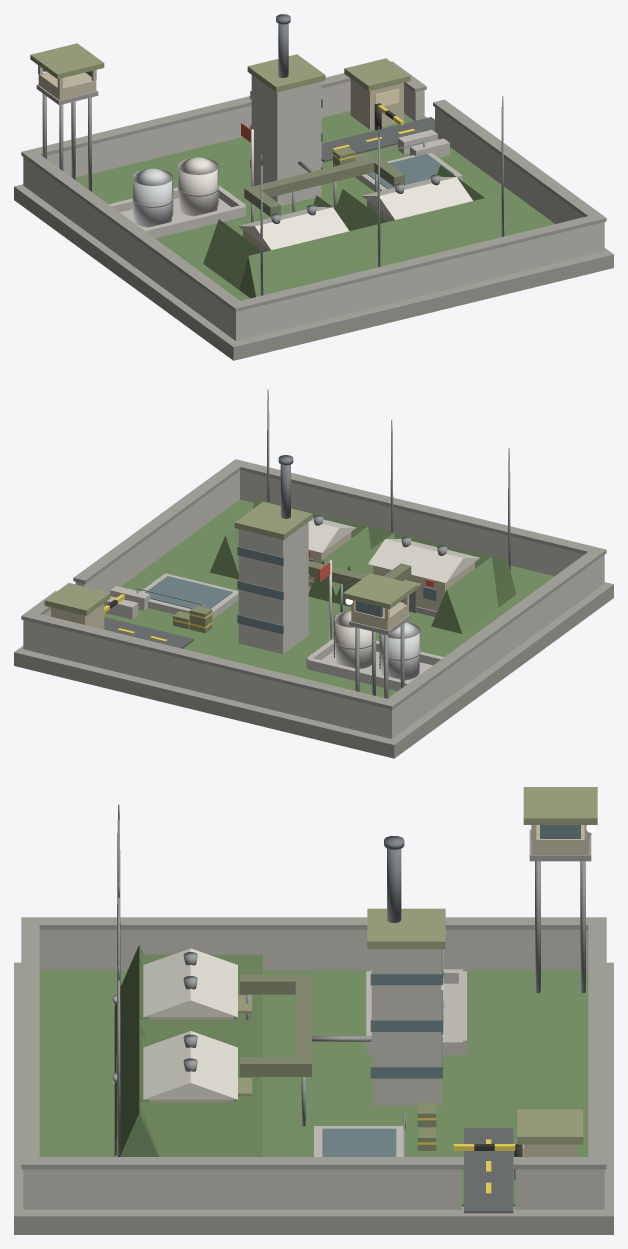
The model's file is tnt_7.glb.
3 renders of one model, top to bottom at view 1: azimuth 30°, elevation 25°; view 2: azimuth 150°, elevation 25°; view 3: azimuth 270°, elevation 25°, orthographic. The views are drawn at different scales.
Parts seen in each view (by area): view 1: Cube, Cube.001, Cube.072, Cube.052, Cube.070, Cube.074, prism, prism.004, Cube.073, Cube.078, Cube.075, prism.007 (+25 smaller); view 2: Cube.001, Cube, Cube.070, Cube.072, Cube.052, Cube.074, Cube.078, Cube.071, Cube.073, Cube.075, prism.001, prism.003 (+23 smaller); view 3: Cube.001, Cube, Cube.078, Cube.074, Cube.052, prism.006, Cube.075, Cube.079, prism.007, prism.003, Cube.071, Cube.073 (+27 smaller).
Boxes of the visible parts, x1,y1,x2,y2 form: Cube: [14, 116, 613, 360]; Cube.001: [75, 111, 554, 300]; Cube.072: [230, 222, 604, 341]; Cube.052: [251, 75, 321, 205]; Cube.070: [23, 81, 350, 186]; Cube.074: [26, 159, 233, 338]; prism: [239, 224, 384, 298]; prism.004: [373, 194, 508, 265]; Cube.073: [229, 213, 606, 311]; Cube.078: [435, 107, 584, 223]; Cube.075: [23, 151, 239, 309]; prism.007: [361, 176, 472, 219]; Cube.001: [104, 499, 554, 697]; Cube: [14, 582, 613, 758]; Cube.070: [23, 620, 396, 738]; Cube.072: [240, 470, 604, 584]; Cube.052: [238, 522, 308, 653]; Cube.074: [394, 557, 601, 736]; Cube.078: [75, 471, 239, 592]; Cube.071: [21, 614, 399, 709]; Cube.073: [229, 459, 606, 555]; Cube.075: [388, 549, 603, 707]; prism.001: [431, 556, 498, 633]; prism.003: [368, 538, 480, 582]; Cube.001: [39, 970, 588, 1206]; Cube: [14, 962, 613, 1234]; Cube.078: [30, 1169, 461, 1209]; Cube.074: [39, 929, 588, 969]; Cube.052: [371, 949, 441, 1105]; prism.006: [139, 1102, 262, 1156]; Cube.075: [28, 917, 599, 929]; Cube.079: [28, 1157, 463, 1169]; prism.007: [143, 1031, 237, 1099]; prism.003: [143, 948, 237, 1016]; Cube.071: [588, 917, 606, 1169]; Cube.073: [21, 917, 39, 1169].
Size of the model in its own units: 2.92 by 1.43 by 2.92.
